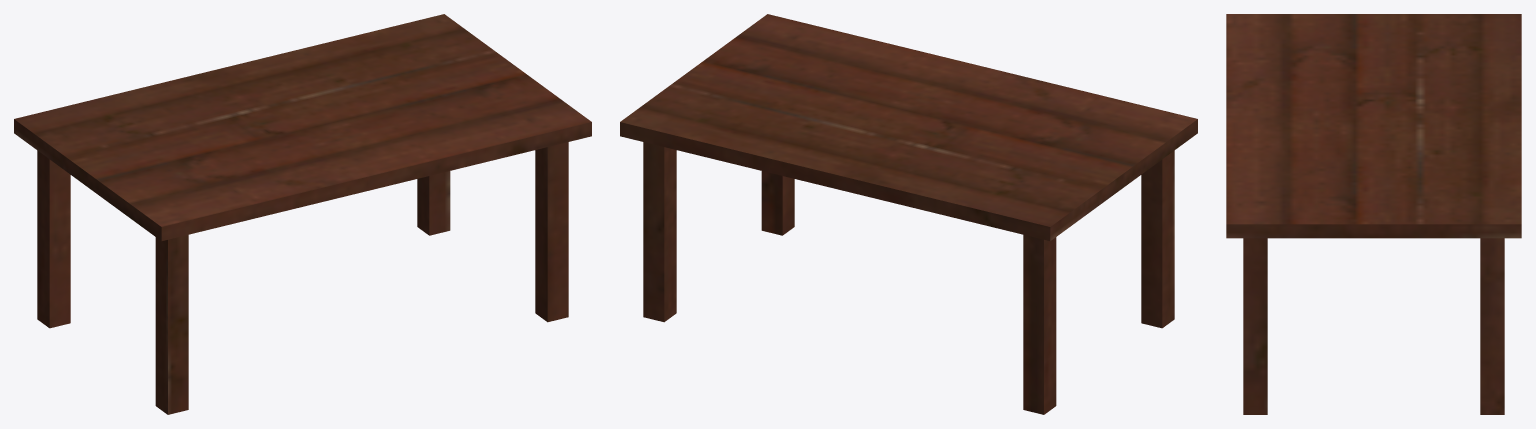
Rendered from table1.fbx.
The picture shows the model from 3 angles, left to right: view 1: azimuth 30°, elevation 25°; view 2: azimuth 150°, elevation 25°; view 3: azimuth 270°, elevation 25°; orthographic projection.
Visible parts, largest first — view 1: Table; view 2: Table; view 3: Table.
Boxes of the visible parts, x1,y1,x2,y2 form: Table: [14, 14, 591, 414]; Table: [620, 14, 1197, 414]; Table: [1226, 14, 1521, 414].
Bounding box in the file's own units: 381 × 167 × 226.
